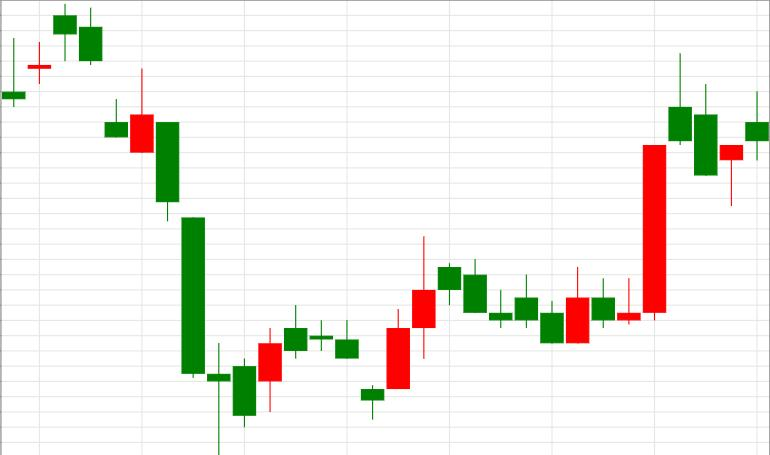bullish_engulfing_rise: (566, 53, 692, 342), (438, 258, 589, 344)
